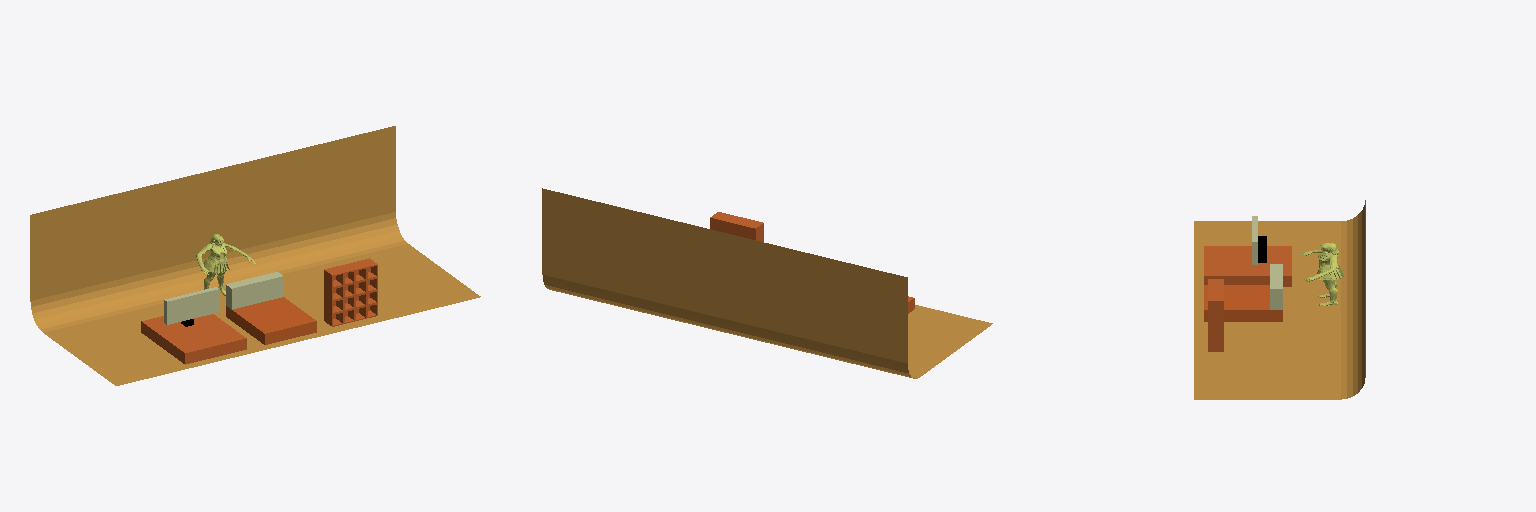
File: c测试2.obj
3 views of the same model, side by side, from view 1: azimuth 30°, elevation 25°; view 2: azimuth 150°, elevation 25°; view 3: azimuth 270°, elevation 25° (orthographic).
Visible parts, largest first — view 1: 立方体, 立方体.002, 立方体.008, 立方体.001, 立方体.004, 立方体.007, 1; view 2: 立方体, 立方体.008; view 3: 立方体, 立方体.002, 立方体.001, 立方体.008, 1, 立方体.004.
Boxes of the visible parts, x1,y1,x2,y2 form: 立方体: [30, 126, 480, 385]; 立方体.002: [141, 314, 246, 364]; 立方体.008: [324, 258, 377, 326]; 立方体.001: [226, 297, 316, 344]; 立方体.004: [226, 272, 283, 309]; 立方体.007: [164, 287, 219, 324]; 1: [196, 234, 255, 295]; 立方体: [542, 188, 992, 378]; 立方体.008: [710, 212, 763, 241]; 立方体: [1194, 200, 1365, 399]; 立方体.002: [1204, 246, 1291, 286]; 立方体.001: [1204, 285, 1282, 321]; 立方体.008: [1208, 279, 1223, 351]; 1: [1300, 243, 1343, 305]; 立方体.004: [1270, 264, 1282, 309].
Bounding box in the file's own units: 24.58 × 7 × 9.98.